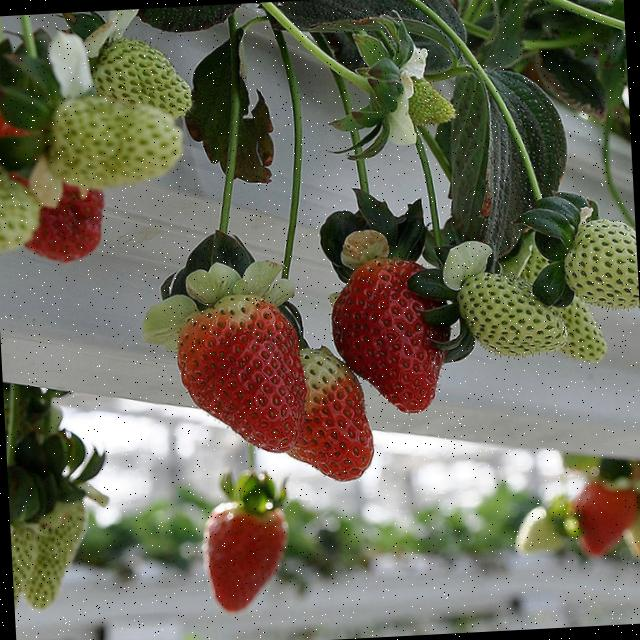Ripe Strawberry: (142, 253, 295, 460), (360, 198, 468, 428), (198, 466, 298, 627), (312, 332, 374, 505), (577, 452, 640, 576), (27, 181, 106, 268)
